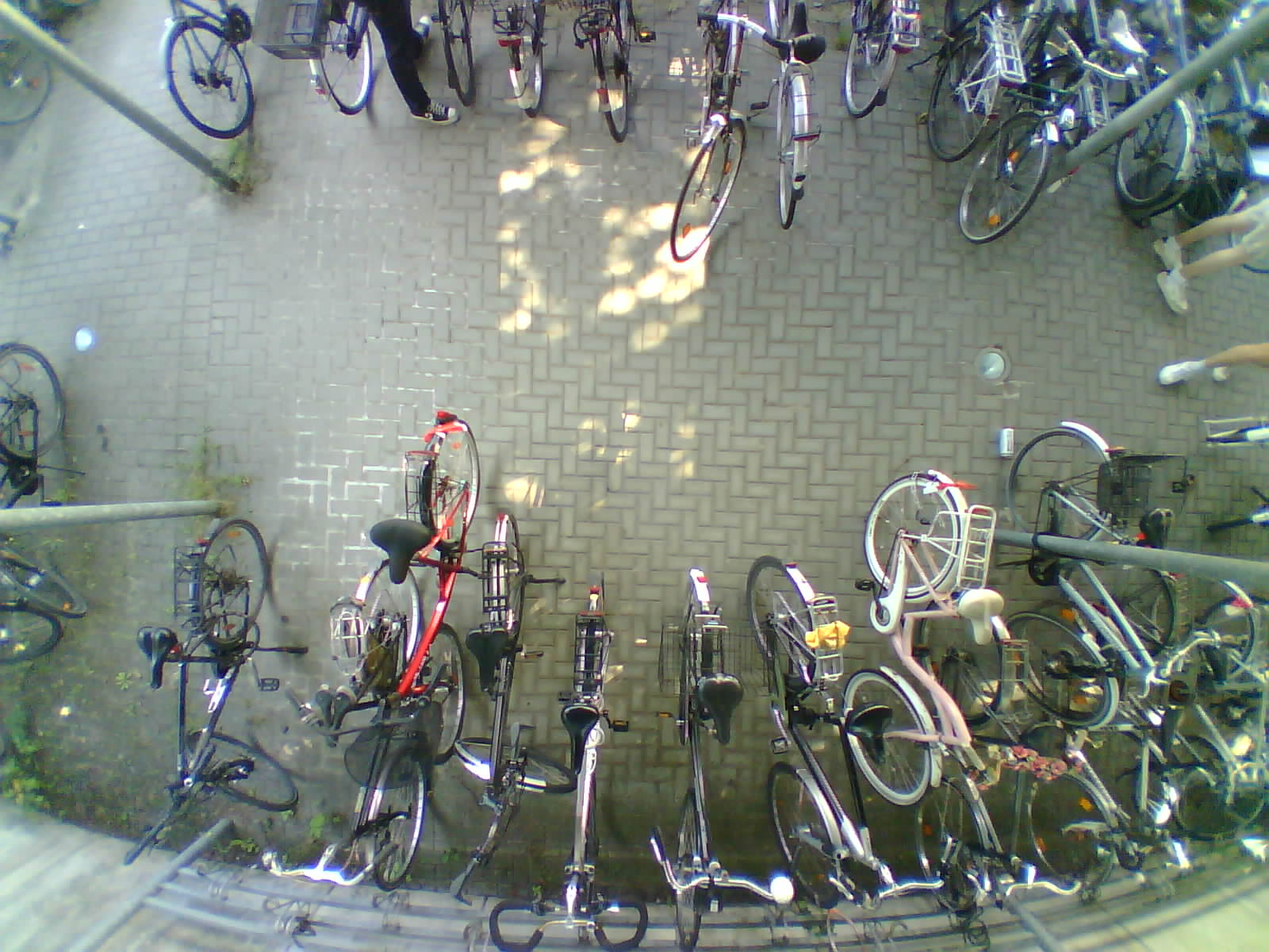bicylce: (999, 409, 1158, 724), (1083, 547, 1256, 832), (855, 464, 981, 806), (758, 560, 869, 915), (379, 409, 486, 765), (1033, 588, 1152, 908), (157, 516, 275, 835), (320, 562, 430, 882), (658, 571, 749, 952), (929, 587, 1015, 914), (470, 513, 543, 886), (555, 572, 622, 947), (977, 0, 1072, 250)
saddle: (369, 516, 433, 585), (698, 670, 746, 748), (773, 2, 826, 70), (847, 702, 900, 766), (311, 681, 357, 754), (957, 586, 1006, 649), (466, 630, 512, 693), (137, 623, 180, 690), (560, 704, 598, 772), (1106, 11, 1150, 61), (1140, 501, 1179, 556), (1153, 697, 1184, 760), (1204, 638, 1228, 685), (1246, 79, 1269, 119)
